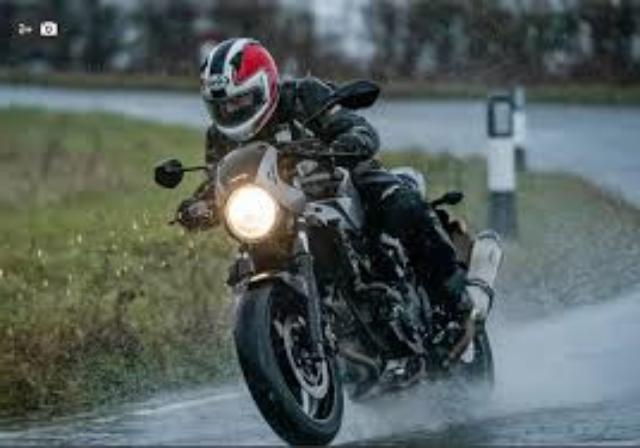helm: (196, 35, 285, 146)
motor: (151, 78, 514, 448)
